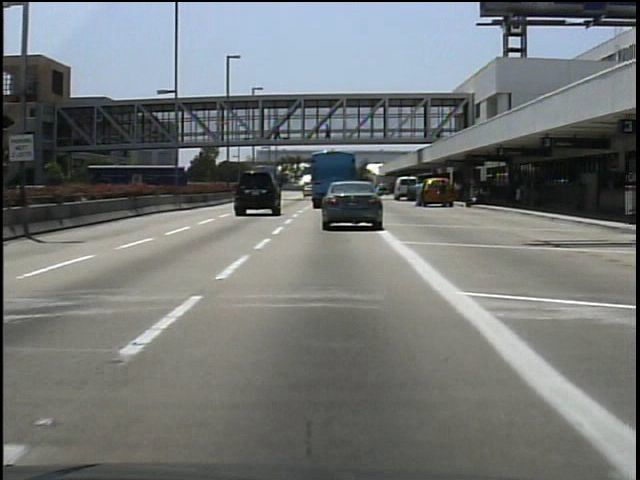person: (436, 176, 453, 211), (410, 179, 429, 209), (322, 120, 335, 146), (273, 118, 287, 140)
